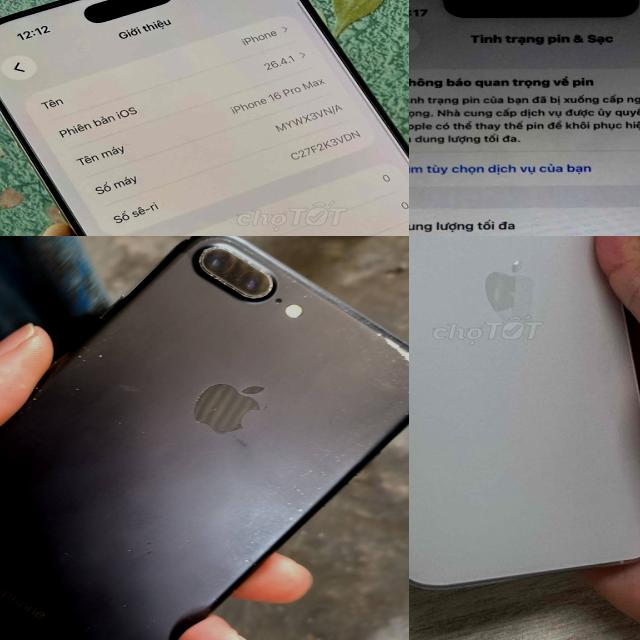gen_11: (409, 0, 640, 236)
gen_14: (409, 236, 640, 597)
gen_16: (0, 0, 409, 236)
gen_7_8: (0, 236, 409, 640)
scratch: (198, 245, 274, 301), (385, 337, 409, 395), (246, 530, 266, 546), (280, 272, 298, 284), (294, 483, 308, 498), (195, 236, 237, 240), (300, 468, 312, 478), (120, 544, 132, 554), (271, 485, 281, 495), (301, 292, 313, 299), (296, 504, 306, 512), (314, 452, 324, 460), (318, 468, 328, 476), (242, 556, 252, 564), (148, 616, 158, 624), (202, 386, 212, 394), (120, 600, 128, 609), (377, 328, 383, 338), (398, 411, 409, 416), (286, 498, 292, 506), (286, 515, 294, 521), (34, 386, 42, 392), (26, 403, 32, 410), (316, 484, 324, 489), (61, 550, 69, 555), (83, 346, 89, 351), (197, 394, 200, 404), (32, 397, 38, 401), (98, 354, 104, 358), (52, 361, 58, 365), (102, 338, 108, 342), (196, 420, 202, 424), (75, 386, 79, 391), (186, 237, 190, 241), (82, 359, 86, 362), (77, 356, 82, 358), (20, 412, 24, 414)
